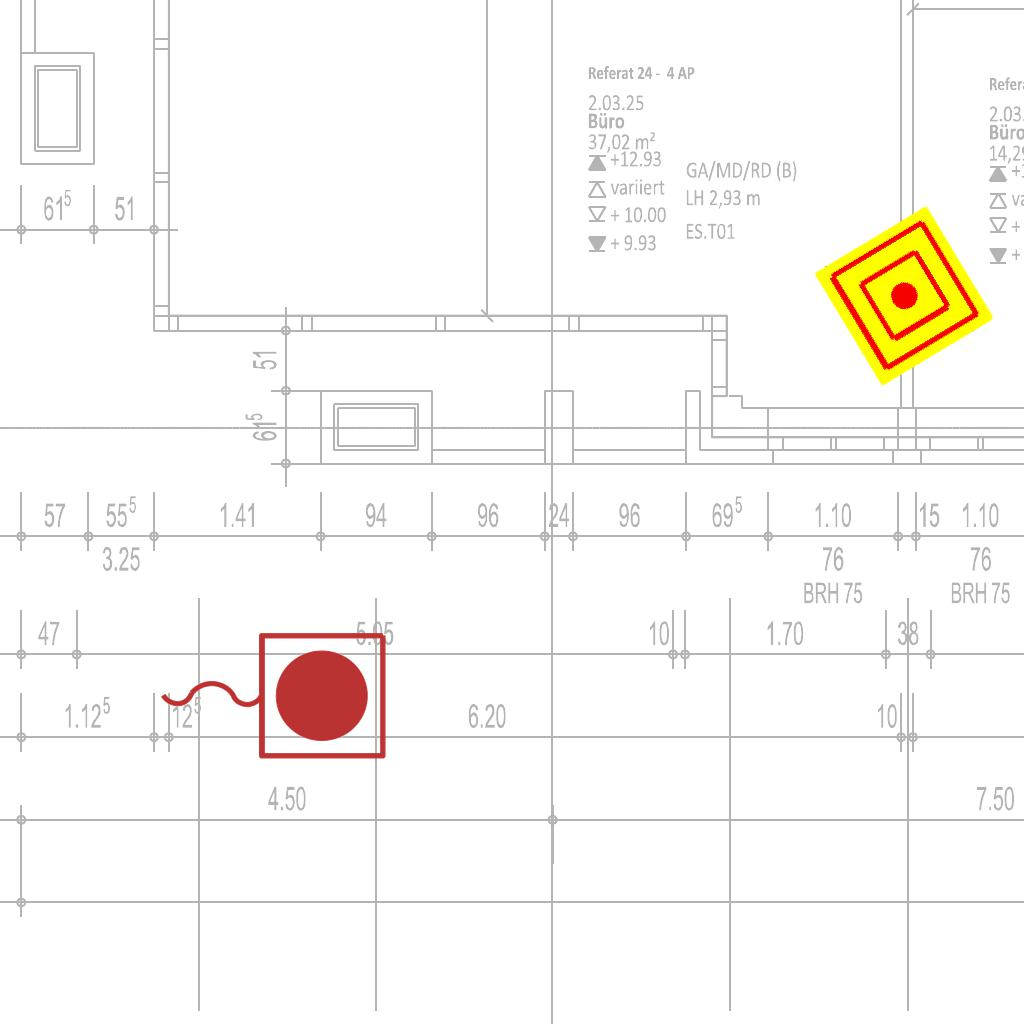NAM-Nichtautomatischer_Melder: (813, 205, 995, 387)
Zugtaster: (150, 622, 394, 766)
